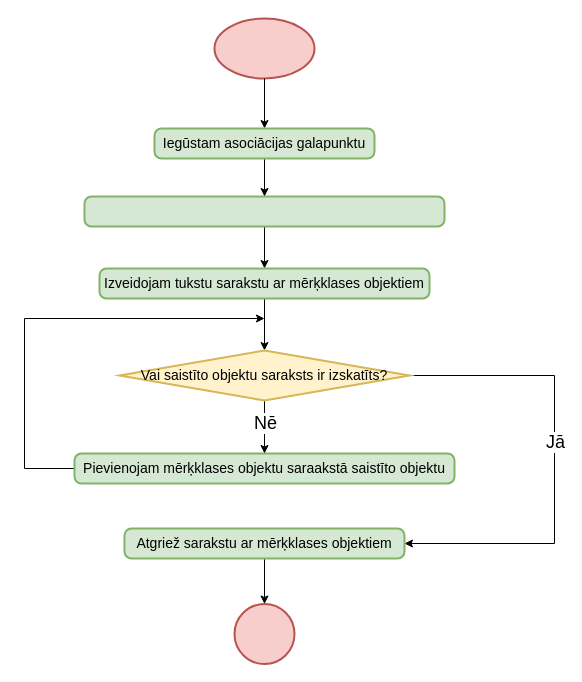
Some shapes in this 582 by 682 pixel diagram are drawn without their labels. The shapes that lost their labels are listed below. From the top down, each one's centre as x and y in pixels, then its label:
the point at 264,48: Sākums
the point at 264,211: Iegūstam sarakstu ar avotklases saistītajiem objektiem
the point at 264,633: Beigas
